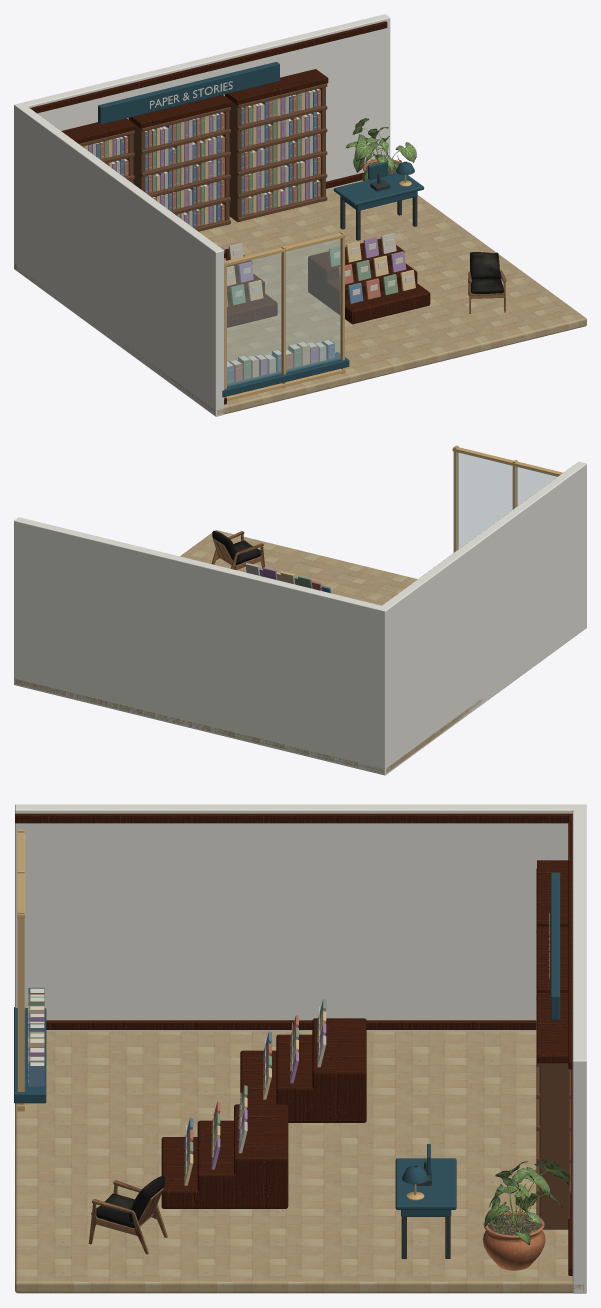
Rendered from independent_bookshop.glb.
The picture shows the model from 3 angles, top to bottom: view 1: azimuth 30°, elevation 25°; view 2: azimuth 150°, elevation 25°; view 3: azimuth 270°, elevation 25°; orthographic projection. The views are drawn at different scales.
Visible parts, largest first — view 1: RefinedSurface_Ivory plaster, Architecture_Floor, Bookshop_Shopfront_Glass, RefinedSurface_Warm oak, RefinedSurface_Walnut, RefinedSurface_Ink blue, RefinedSurface_Brass, RefinedSurface_Book cover 1, RefinedSurface_Book cover 3, RefinedSurface_Book cover 0, RefinedSurface_Book cover 2, RefinedSurface_Book cover 4 (+5 smaller); view 2: RefinedSurface_Ivory plaster, Architecture_Floor, Bookshop_Shopfront_Glass, RefinedSurface_Brass, Refined_BookshopReadingChair; view 3: RefinedSurface_Ivory plaster, Architecture_Floor, RefinedSurface_Warm oak, RefinedSurface_Ink blue, RefinedSurface_Walnut, Refined_BookshopPlant, Refined_BookshopReadingChair, RefinedSurface_Brass, RefinedSurface_Paper, RefinedSurface_Book cover 3, RefinedSurface_Book cover 2, RefinedSurface_Book cover 4 (+2 smaller).
Boxes of the visible parts, bbox=[...] form: RefinedSurface_Ivory plaster: bbox=[14, 14, 390, 416]; Architecture_Floor: bbox=[14, 181, 586, 414]; Bookshop_Shopfront_Glass: bbox=[227, 238, 340, 386]; RefinedSurface_Warm oak: bbox=[30, 21, 430, 404]; RefinedSurface_Walnut: bbox=[79, 83, 327, 231]; RefinedSurface_Ink blue: bbox=[98, 62, 424, 397]; RefinedSurface_Brass: bbox=[85, 93, 411, 400]; RefinedSurface_Book cover 1: bbox=[99, 89, 380, 381]; RefinedSurface_Book cover 3: bbox=[84, 92, 415, 377]; RefinedSurface_Book cover 0: bbox=[96, 90, 363, 383]; RefinedSurface_Book cover 2: bbox=[82, 93, 398, 379]; RefinedSurface_Book cover 4: bbox=[88, 91, 406, 375]; RefinedSurface_Ivory plaster: bbox=[14, 461, 586, 775]; Architecture_Floor: bbox=[15, 530, 483, 773]; Bookshop_Shopfront_Glass: bbox=[455, 451, 557, 551]; RefinedSurface_Brass: bbox=[452, 445, 562, 552]; Refined_BookshopReadingChair: bbox=[211, 531, 264, 569]; RefinedSurface_Ivory plaster: bbox=[15, 804, 586, 1293]; Architecture_Floor: bbox=[15, 1031, 583, 1293]; RefinedSurface_Warm oak: bbox=[15, 813, 572, 1275]; RefinedSurface_Ink blue: bbox=[14, 872, 560, 1216]; RefinedSurface_Walnut: bbox=[536, 868, 571, 1229]; Refined_BookshopPlant: bbox=[483, 1159, 569, 1270]; Refined_BookshopReadingChair: bbox=[88, 1176, 167, 1254]; RefinedSurface_Brass: bbox=[17, 829, 424, 1200]; RefinedSurface_Paper: bbox=[30, 913, 549, 1173]; RefinedSurface_Book cover 3: bbox=[28, 1005, 326, 1185]; RefinedSurface_Book cover 2: bbox=[28, 996, 326, 1173]; RefinedSurface_Book cover 4: bbox=[28, 1012, 326, 1169].
Bounding box in the file's own units: 8.5 × 3.6 × 8.01.
Materials: 20 (6 with a texture image).
